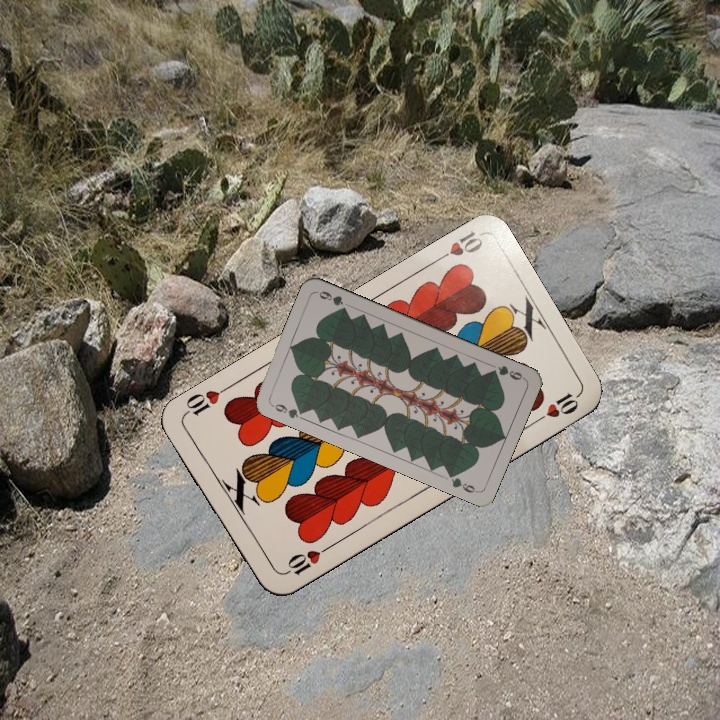G9: (486, 361, 527, 383), (267, 400, 308, 421)
H10: (430, 227, 486, 266), (279, 542, 333, 578)
